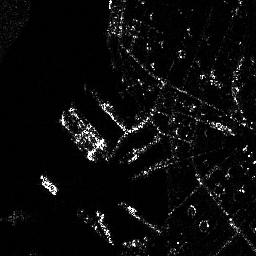ship: (39, 174, 58, 197)
